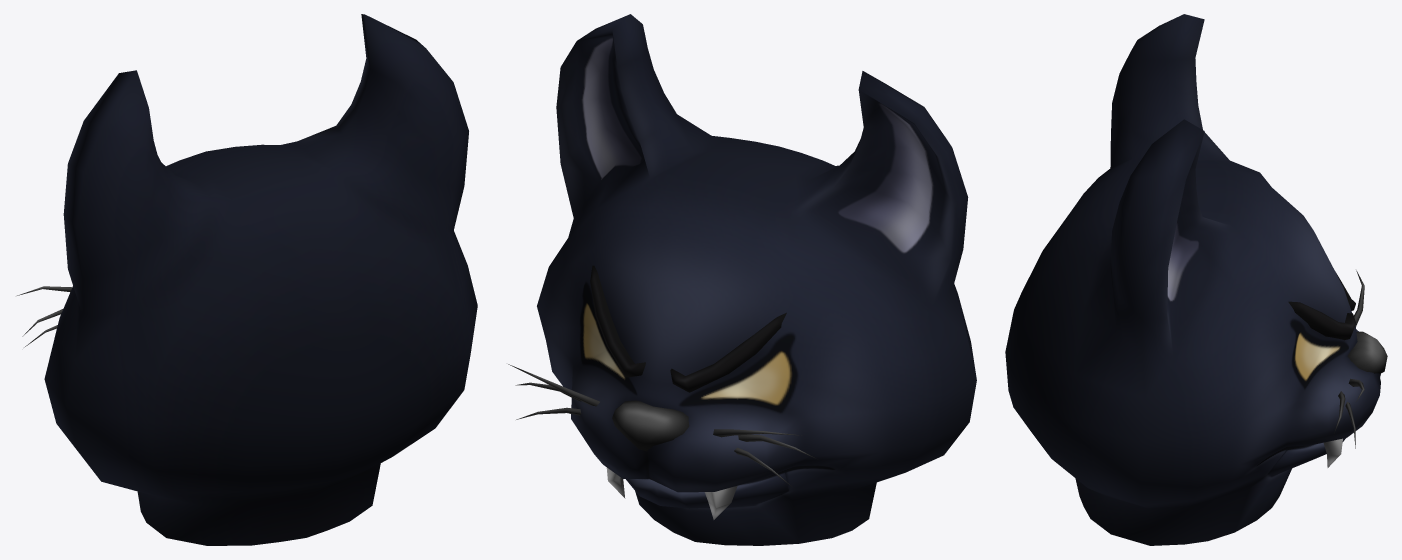
The model's file is advocate.glb.
The picture shows the model from 3 angles, left to right: view 1: azimuth 30°, elevation 25°; view 2: azimuth 150°, elevation 25°; view 3: azimuth 270°, elevation 25°; orthographic projection. The views are drawn at different scales.
Visible parts, largest first — view 1: Advocate; view 2: Advocate; view 3: Advocate.
Part boxes in pixels (x1,y1,x2,y2): Advocate: (17,14,477,545); Advocate: (508,14,976,545); Advocate: (1005,14,1387,545).
Bounding box in the file's own units: 1.88 × 2 × 1.6.
Materials: 1 (1 with a texture image).
